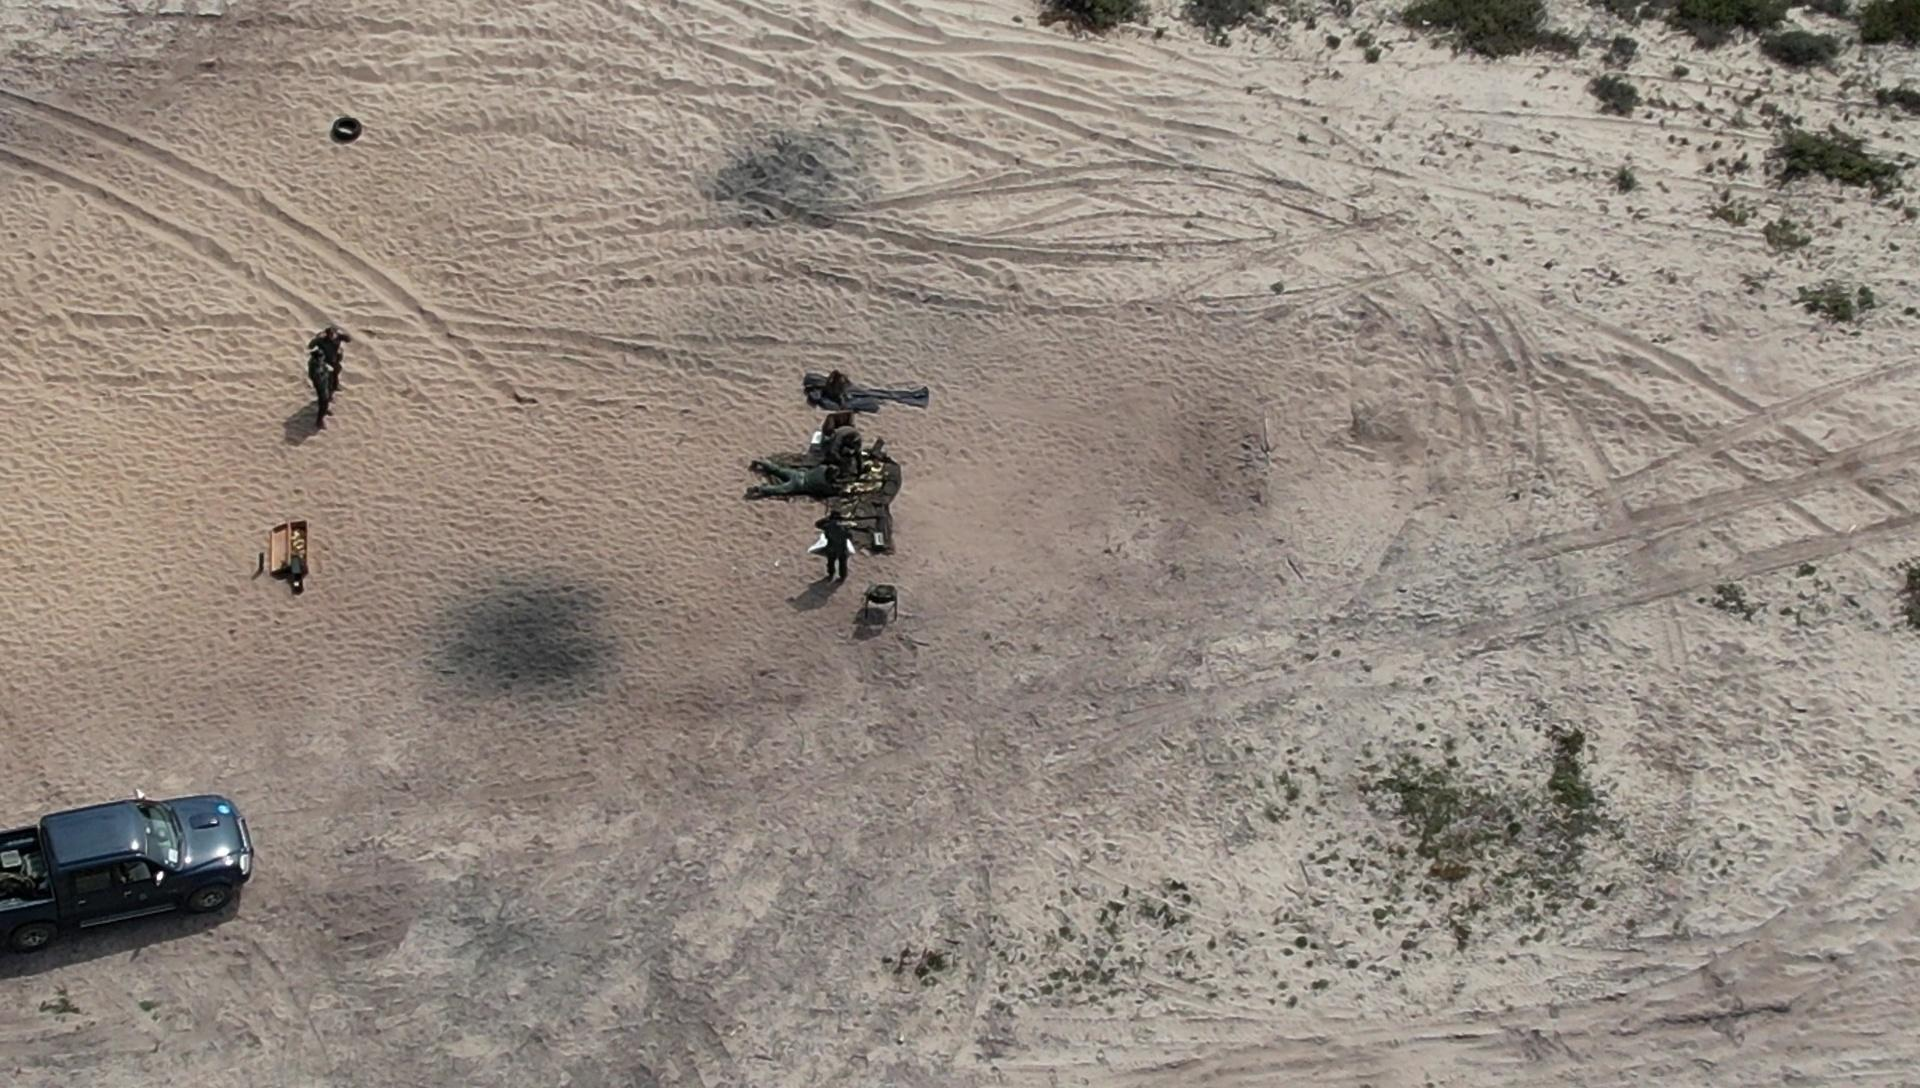Soldier: (741, 440, 849, 504), (807, 508, 862, 588), (301, 343, 342, 423), (828, 415, 877, 477), (316, 317, 352, 359)
